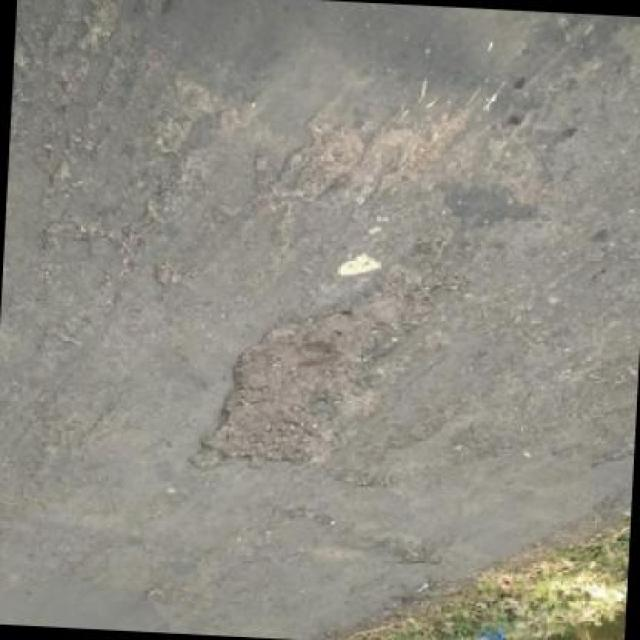pothole1: (187, 283, 419, 483), (388, 536, 444, 572)
